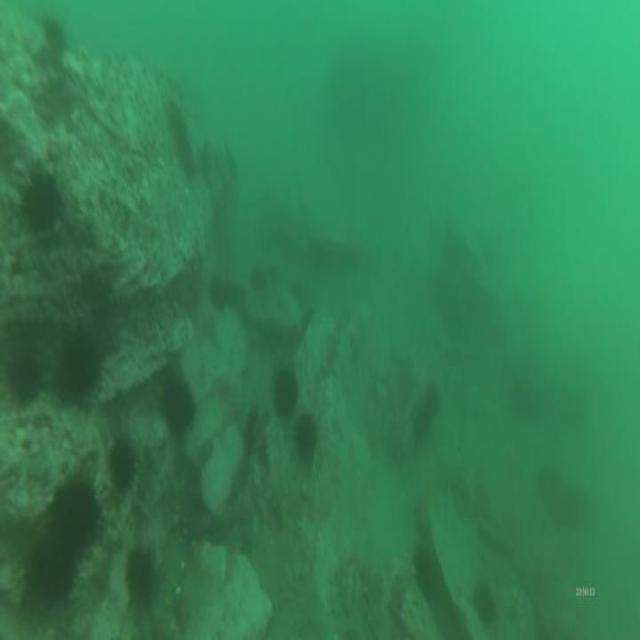echinus: (51, 469, 108, 556), (22, 534, 78, 610), (54, 335, 103, 405), (19, 174, 61, 238), (124, 547, 156, 608), (162, 382, 196, 438), (7, 354, 42, 408), (271, 364, 301, 425), (108, 439, 138, 495), (291, 410, 319, 470), (38, 13, 72, 60), (470, 577, 498, 630), (408, 400, 430, 449), (420, 378, 442, 423), (208, 276, 229, 313), (300, 303, 318, 332), (249, 265, 265, 294), (265, 262, 279, 284), (290, 280, 303, 302)
